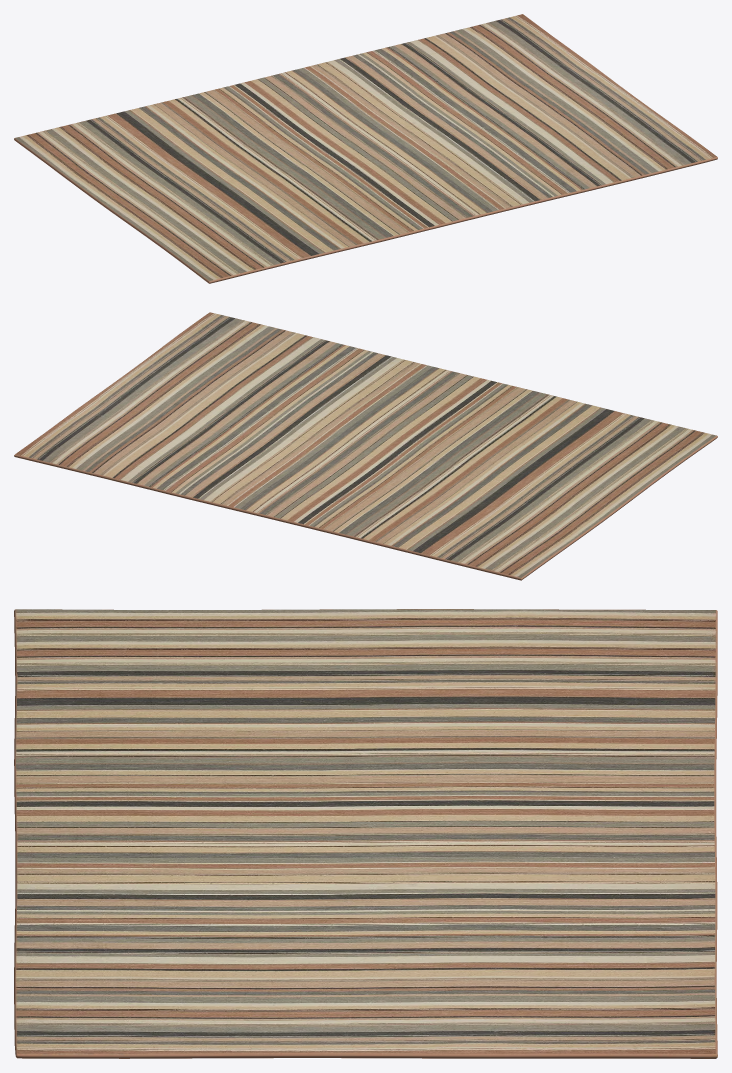
Rendered from abo-B0735TZKWB.glb.
3 renders of one model, top to bottom at view 1: azimuth 30°, elevation 25°; view 2: azimuth 150°, elevation 25°; view 3: azimuth 270°, elevation 25°, orthographic. The views are drawn at different scales.
Size of the model in its own units: 1.83 by 0.01 by 1.22.
Materials: 1 (1 with a texture image).
